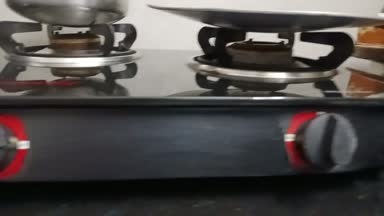noflame_gason: (205, 26, 367, 174)
